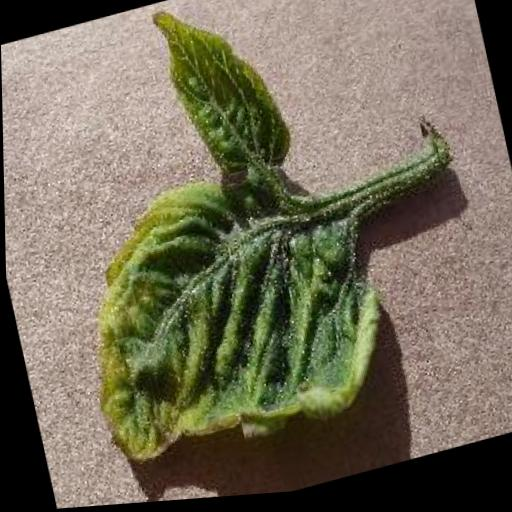Yellow Leaf Curl Virus: (22, 0, 401, 483)
